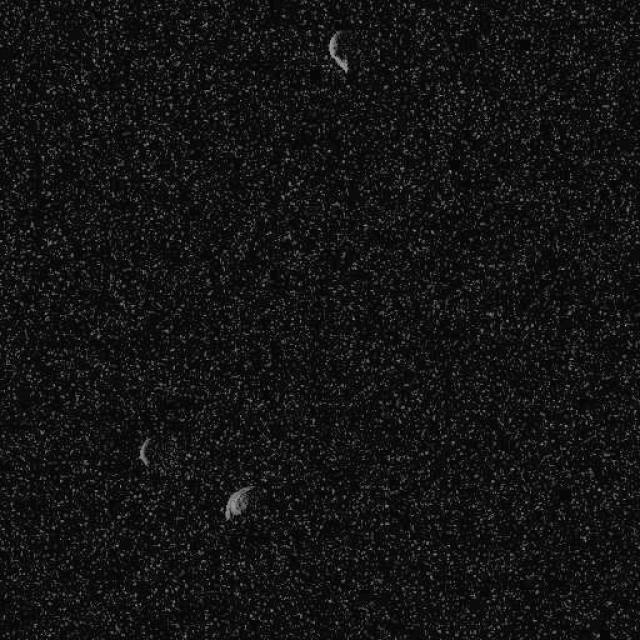D2: (223, 484, 255, 521), (326, 28, 349, 72), (136, 435, 152, 466)
